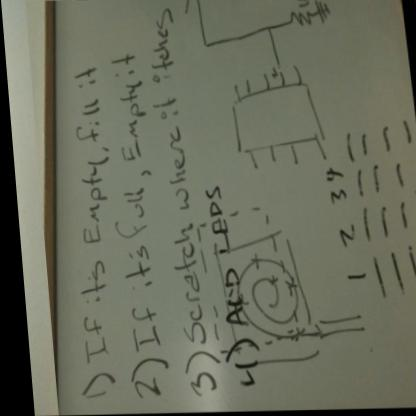Handwritten text: (138, 10, 203, 348), (53, 62, 120, 372), (98, 47, 162, 360)
Whiteboard: (49, 0, 416, 414)
